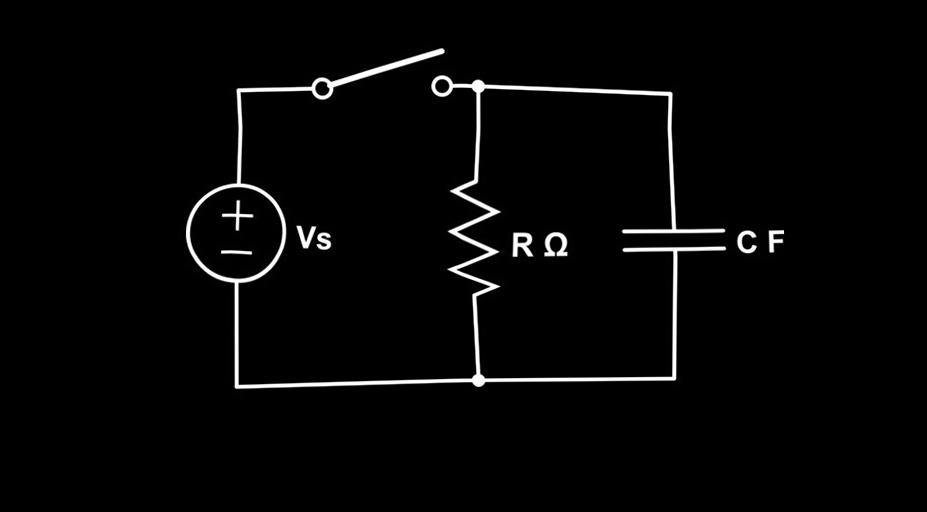Battery: (149, 166, 296, 297)
